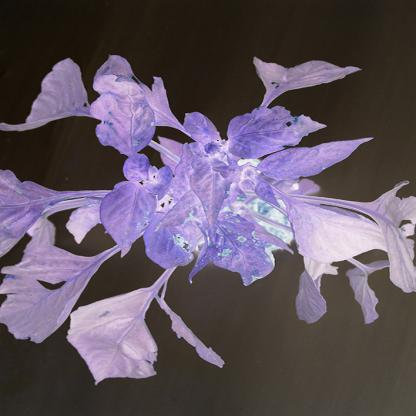bell pepper leaf spot: (1, 248, 99, 350), (77, 288, 157, 392), (210, 210, 283, 291), (87, 72, 152, 157), (229, 106, 330, 158), (99, 181, 156, 262), (247, 58, 369, 95), (185, 151, 230, 232), (153, 214, 200, 270), (154, 198, 203, 230)
